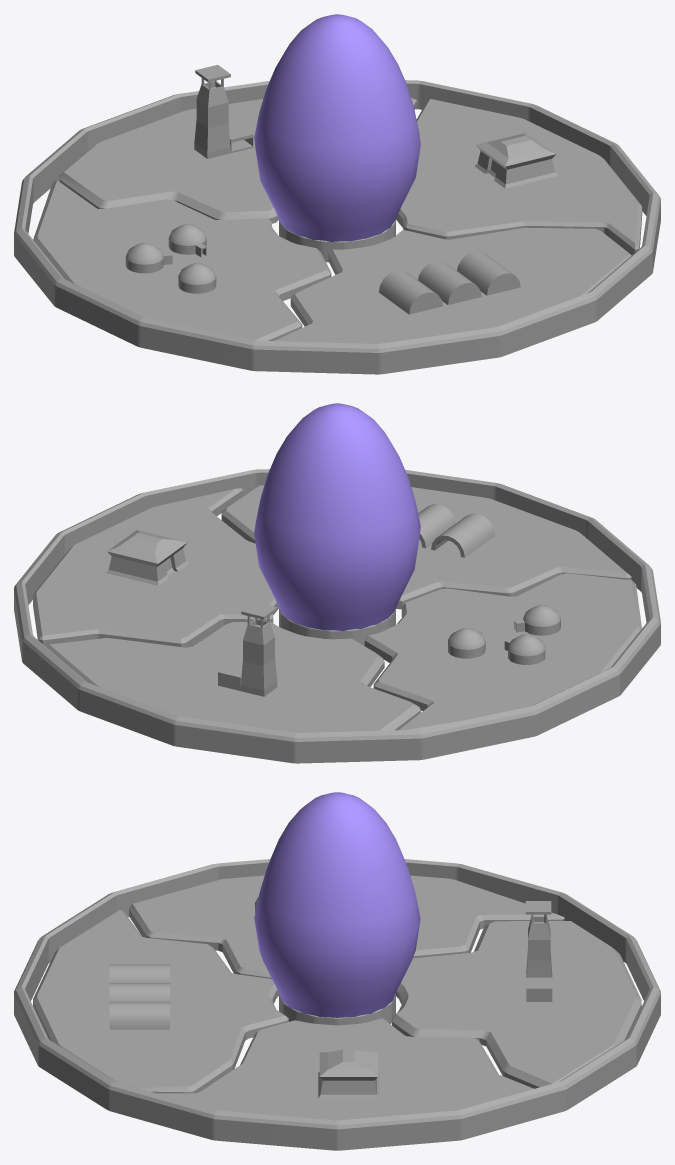
Rendered from Lava_Level.fbx.
3 views of the same model, one above another, from view 1: azimuth 30°, elevation 25°; view 2: azimuth 150°, elevation 25°; view 3: azimuth 270°, elevation 25° (orthographic).
Visible parts, largest first — view 1: Border, Sheild, Mining_Section, Barracks_Section, Armory_Section, Lookout_Section, Lookout, Armory, Barrack3, Barrack1, Barrack2, Tower (+3 smaller); view 2: Border, Sheild, Mining_Section, Lookout_Section, Armory_Section, Barracks_Section, Lookout, Armory, Barrack3, Tower, Storage1, Barrack2 (+2 smaller); view 3: Border, Sheild, Lookout_Section, Barracks_Section, Armory_Section, Mining_Section, Armory, Lookout, Barrack1, Tower, Barrack3, Barrack2.
Boxes of the visible parts, x1,y1,x2,y2 form: Border: (14, 80, 660, 374); Sheild: (254, 14, 420, 241); Mining_Section: (33, 180, 331, 340); Barracks_Section: (275, 227, 631, 343); Armory_Section: (396, 99, 642, 254); Lookout_Section: (59, 98, 416, 223); Lookout: (194, 64, 253, 158); Armory: (474, 132, 557, 188); Barrack3: (379, 270, 442, 314); Barrack1: (457, 251, 520, 295); Barrack2: (418, 260, 481, 304); Tower: (279, 219, 395, 262); Border: (14, 469, 660, 763); Sheild: (254, 403, 420, 630); Mining_Section: (364, 573, 641, 730); Lookout_Section: (45, 622, 420, 732); Armory_Section: (33, 488, 278, 647); Barracks_Section: (221, 485, 631, 609); Lookout: (218, 602, 277, 696); Armory: (106, 530, 188, 585); Barrack3: (431, 513, 495, 557); Tower: (279, 608, 395, 645); Storage1: (514, 605, 560, 635); Barrack2: (418, 504, 455, 548); Border: (14, 859, 660, 1150); Sheild: (254, 792, 420, 1017); Lookout_Section: (392, 921, 641, 1088); Barracks_Section: (33, 909, 288, 1093); Armory_Section: (157, 1018, 533, 1120); Mining_Section: (129, 875, 564, 978); Armory: (318, 1049, 378, 1098); Lookout: (525, 901, 552, 1001); Barrack1: (109, 1002, 169, 1029); Tower: (279, 994, 395, 1025); Barrack3: (109, 964, 169, 982); Barrack2: (109, 983, 169, 1001).
Bounding box in the file's own units: 24.89 × 9.26 × 24.89.
